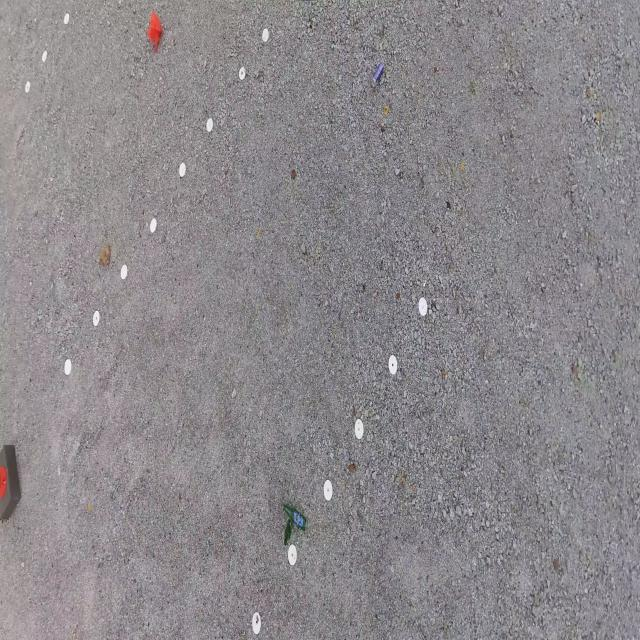rubbish: (144, 9, 163, 51), (283, 506, 306, 531), (372, 63, 384, 85), (100, 246, 110, 269), (283, 521, 292, 545), (292, 169, 296, 178)
